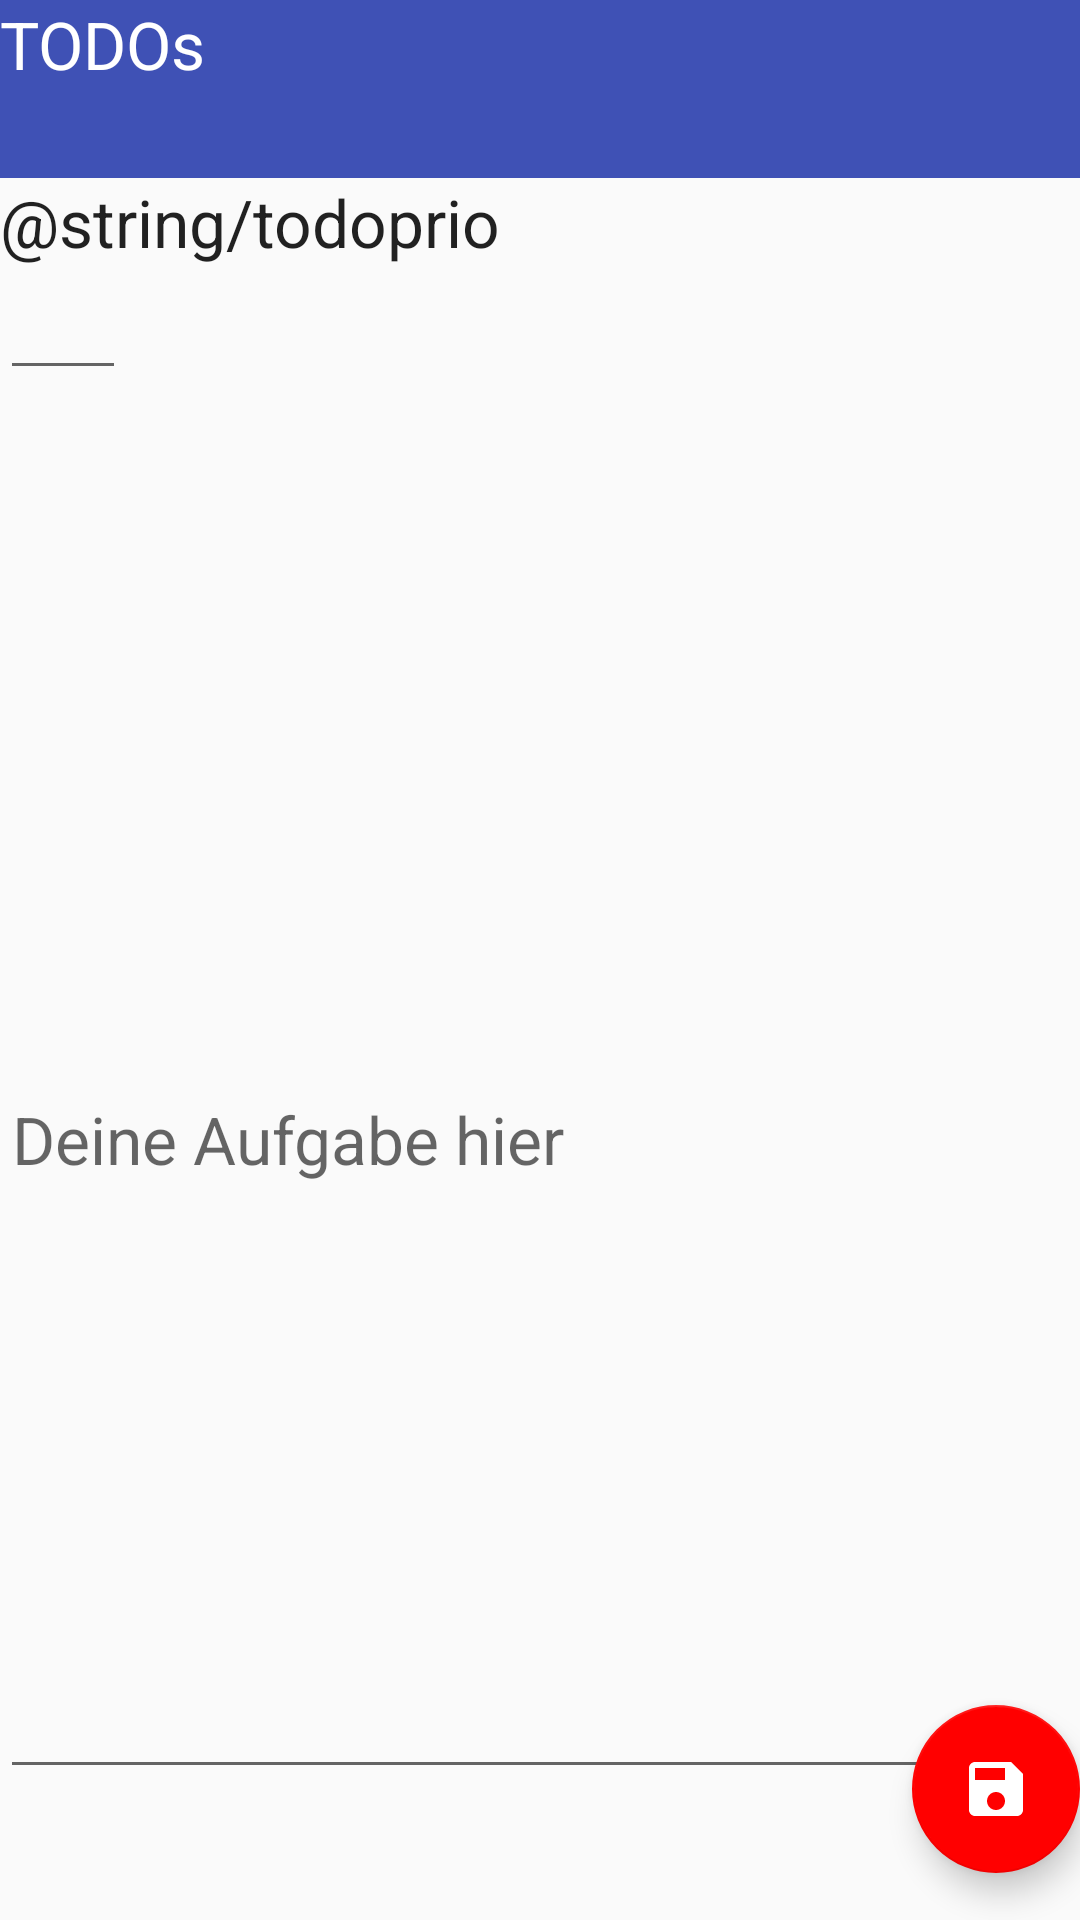

Locate icon controls on the screen. Image size 1080×1920, boxes as [left=x1, top=y1, right=x2, bottom=y2].
save: [left=912, top=1705, right=1080, bottom=1873]
